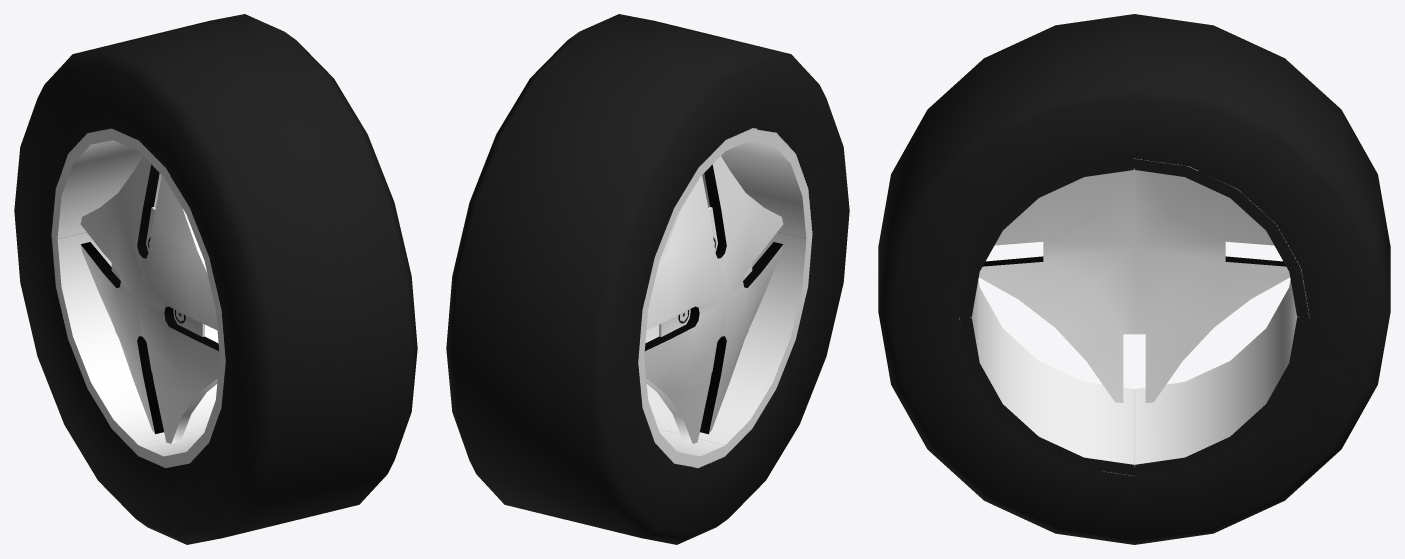
The model's file is F_Wheel_01.FBX.
3 renders of one model, left to right at view 1: azimuth 30°, elevation 25°; view 2: azimuth 150°, elevation 25°; view 3: azimuth 270°, elevation 25°, orthographic.
Visible parts, largest first — view 1: Wheel_01; view 2: Wheel_01; view 3: Wheel_01.
Boxes of the visible parts, <box> form: Wheel_01: <box>14,14,417,544</box>; Wheel_01: <box>446,14,849,544</box>; Wheel_01: <box>878,14,1390,544</box>.
Bounding box in the file's own units: 365 × 1000 × 1000.
